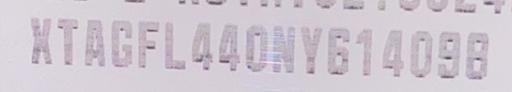letter: (374, 26, 408, 75), (322, 23, 354, 75), (462, 28, 492, 79), (159, 19, 189, 69), (106, 18, 134, 69), (434, 27, 462, 78), (50, 16, 80, 63), (268, 23, 296, 73), (297, 23, 323, 76), (80, 17, 108, 66), (214, 20, 240, 70), (242, 20, 268, 70), (26, 16, 52, 64), (134, 18, 158, 68), (190, 20, 214, 70), (408, 28, 432, 78), (354, 25, 374, 73)
